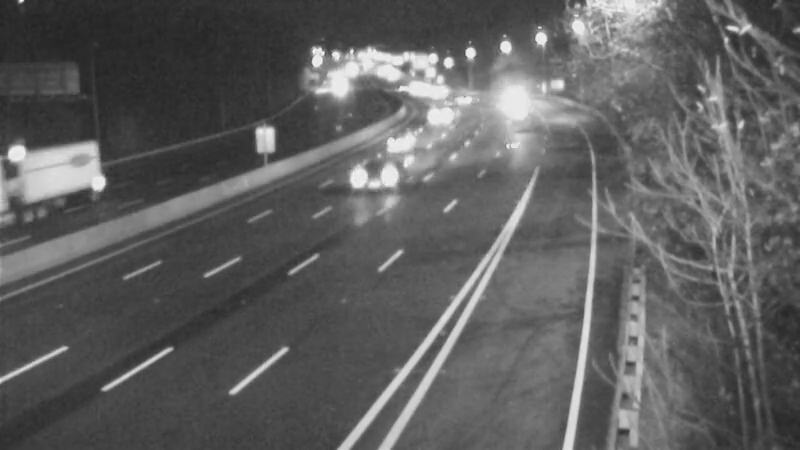vehicle: (340, 132, 420, 212), (12, 155, 92, 235), (411, 68, 461, 118), (433, 74, 483, 124), (492, 83, 542, 133), (411, 92, 461, 142), (376, 119, 426, 169)
